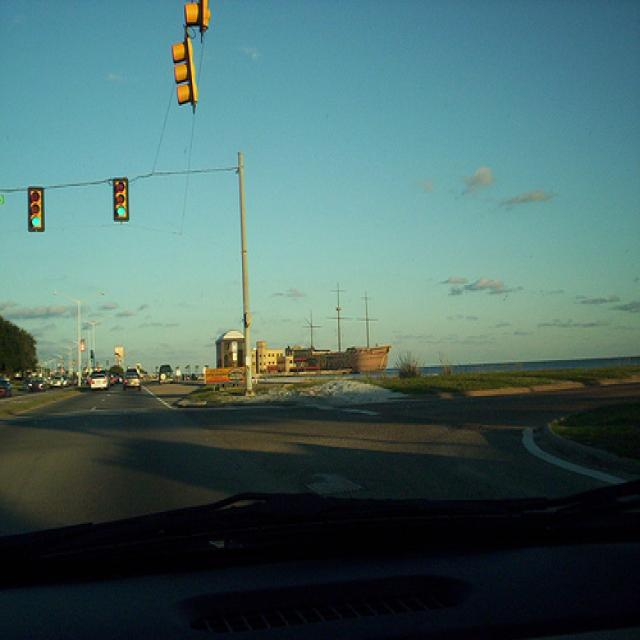Vehicle: (90, 371, 110, 390), (2, 377, 15, 405), (124, 372, 142, 392), (158, 365, 175, 385), (28, 377, 48, 391), (49, 376, 66, 389), (110, 372, 124, 386), (64, 378, 70, 386)
